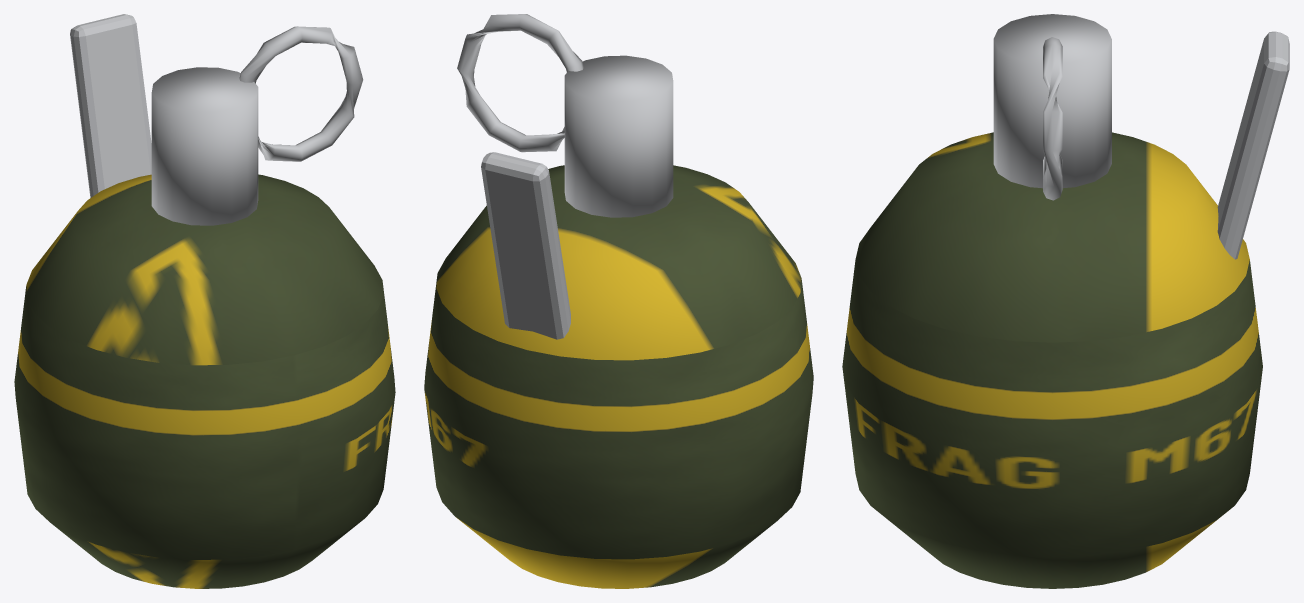
The model's file is frag_grenade.glb.
3 views of the same model, side by side, from view 1: azimuth 30°, elevation 25°; view 2: azimuth 150°, elevation 25°; view 3: azimuth 270°, elevation 25° (orthographic). The views are drawn at different scales.
Parts seen in each view (by area): view 1: body, fuze, spoon, ring; view 2: body, fuze, spoon, ring; view 3: body, fuze, spoon, ring.
Part boxes in pixels (bbox=[...]): body: bbox=[14, 174, 395, 588]; fuze: bbox=[151, 67, 258, 225]; spoon: bbox=[70, 14, 151, 197]; ring: bbox=[239, 26, 363, 161]; body: bbox=[424, 165, 813, 588]; fuze: bbox=[564, 55, 673, 217]; spoon: bbox=[481, 152, 570, 339]; ring: bbox=[457, 14, 583, 152]; body: bbox=[842, 132, 1262, 588]; fuze: bbox=[993, 14, 1111, 188]; spoon: bbox=[1217, 31, 1289, 259]; ring: bbox=[1043, 37, 1062, 200].
Bounding box in the file's own units: 0.064 × 0.0925 × 0.068.
Materials: 2 (1 with a texture image).
